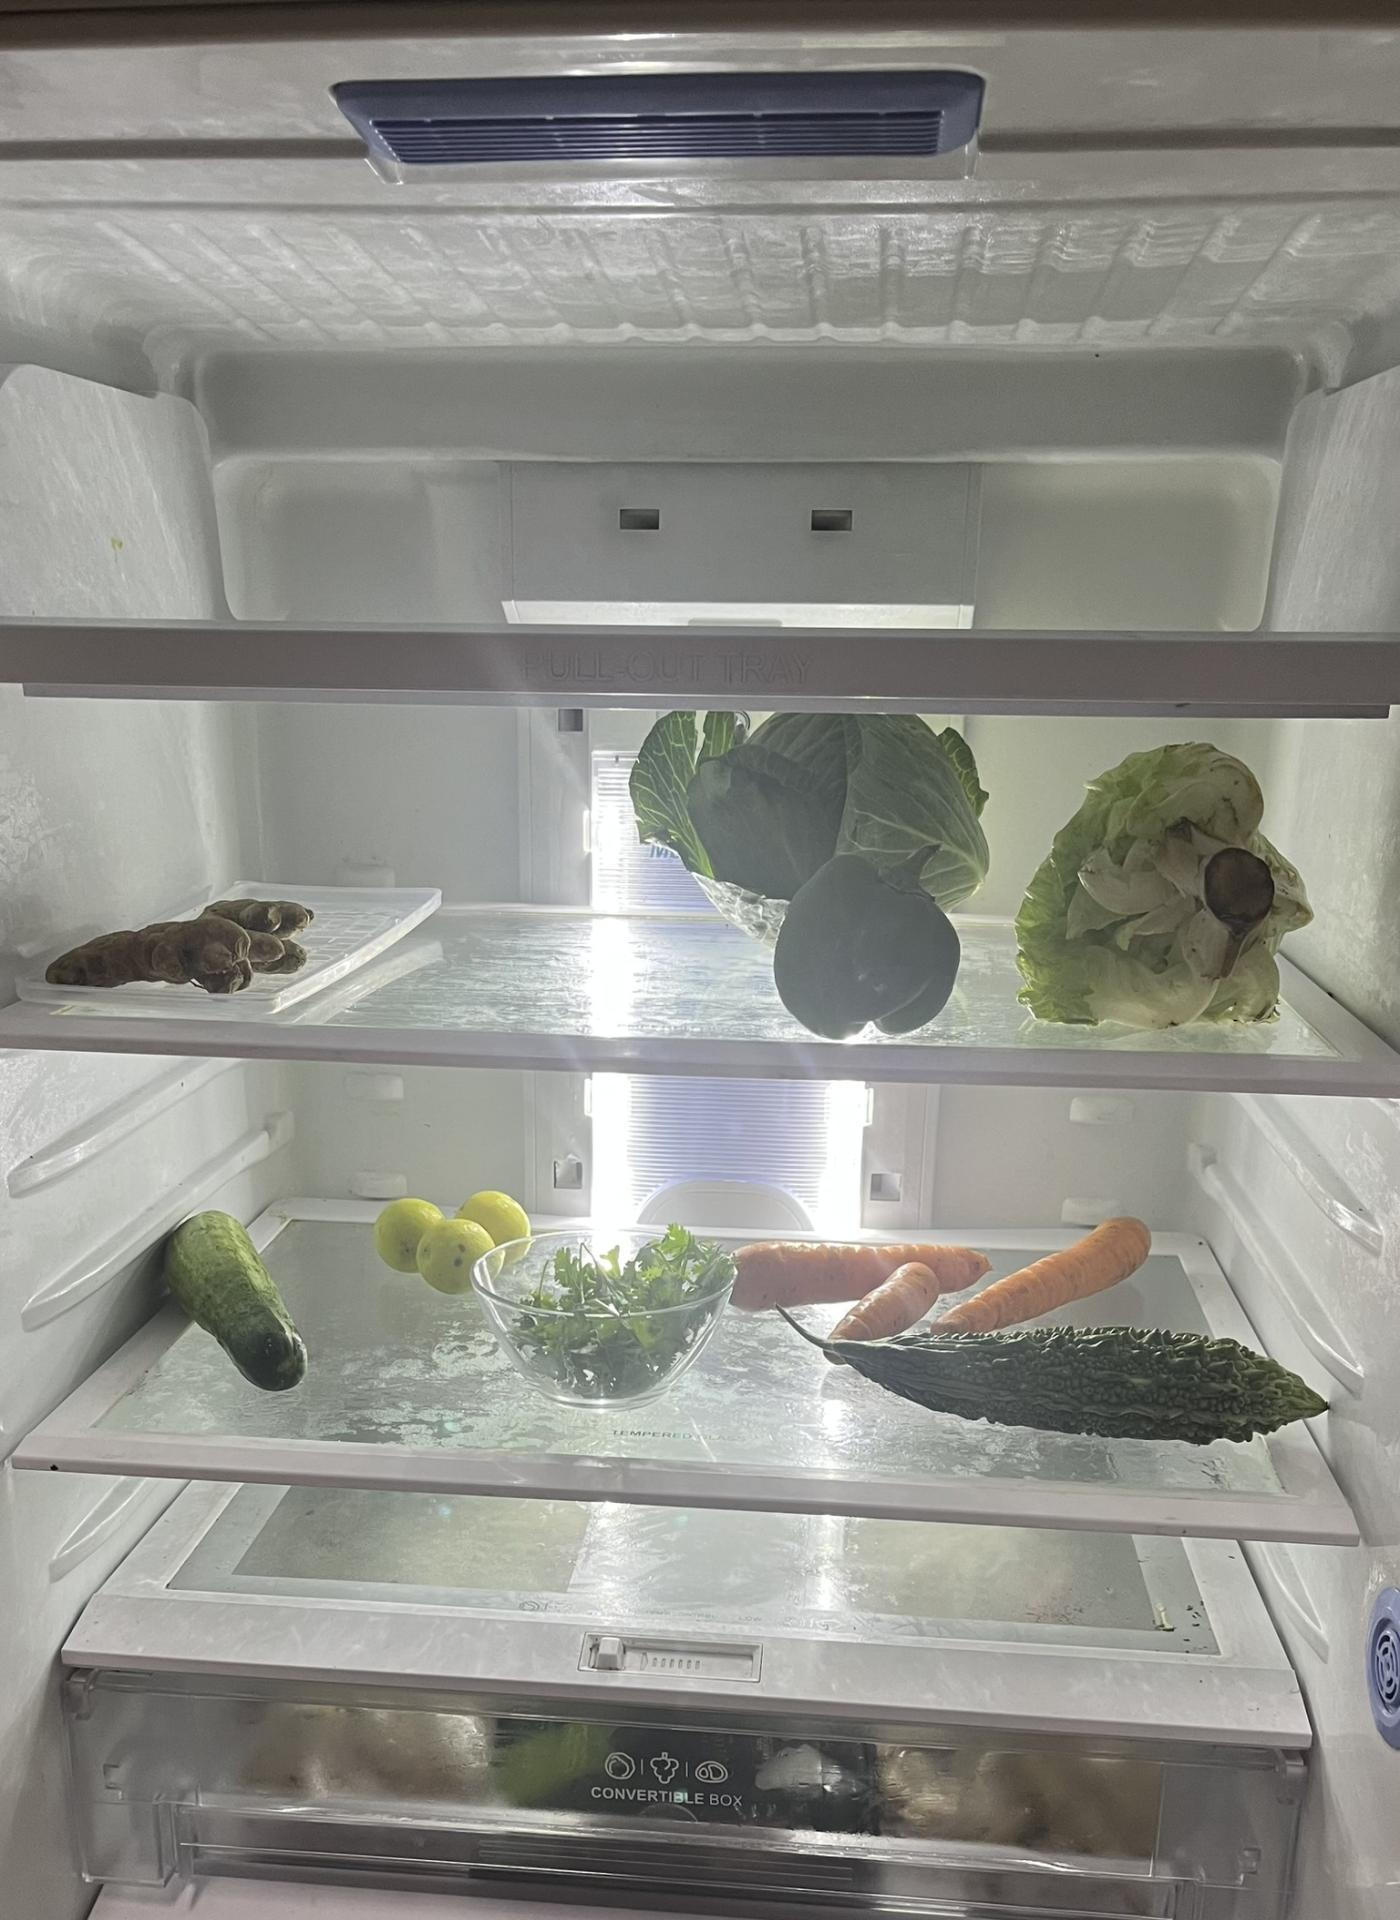bitter gourd: (823, 1333, 1334, 1444)
cabbage: (628, 704, 987, 941)
capsicum: (772, 850, 962, 1043)
carrots: (938, 1213, 1154, 1331), (723, 1239, 980, 1333)
coriander: (494, 1224, 729, 1406)
cucumber: (171, 1206, 306, 1392)
ginger: (49, 899, 318, 1002)
lemon: (370, 1191, 529, 1292)
lettuce: (1015, 739, 1311, 1027)
